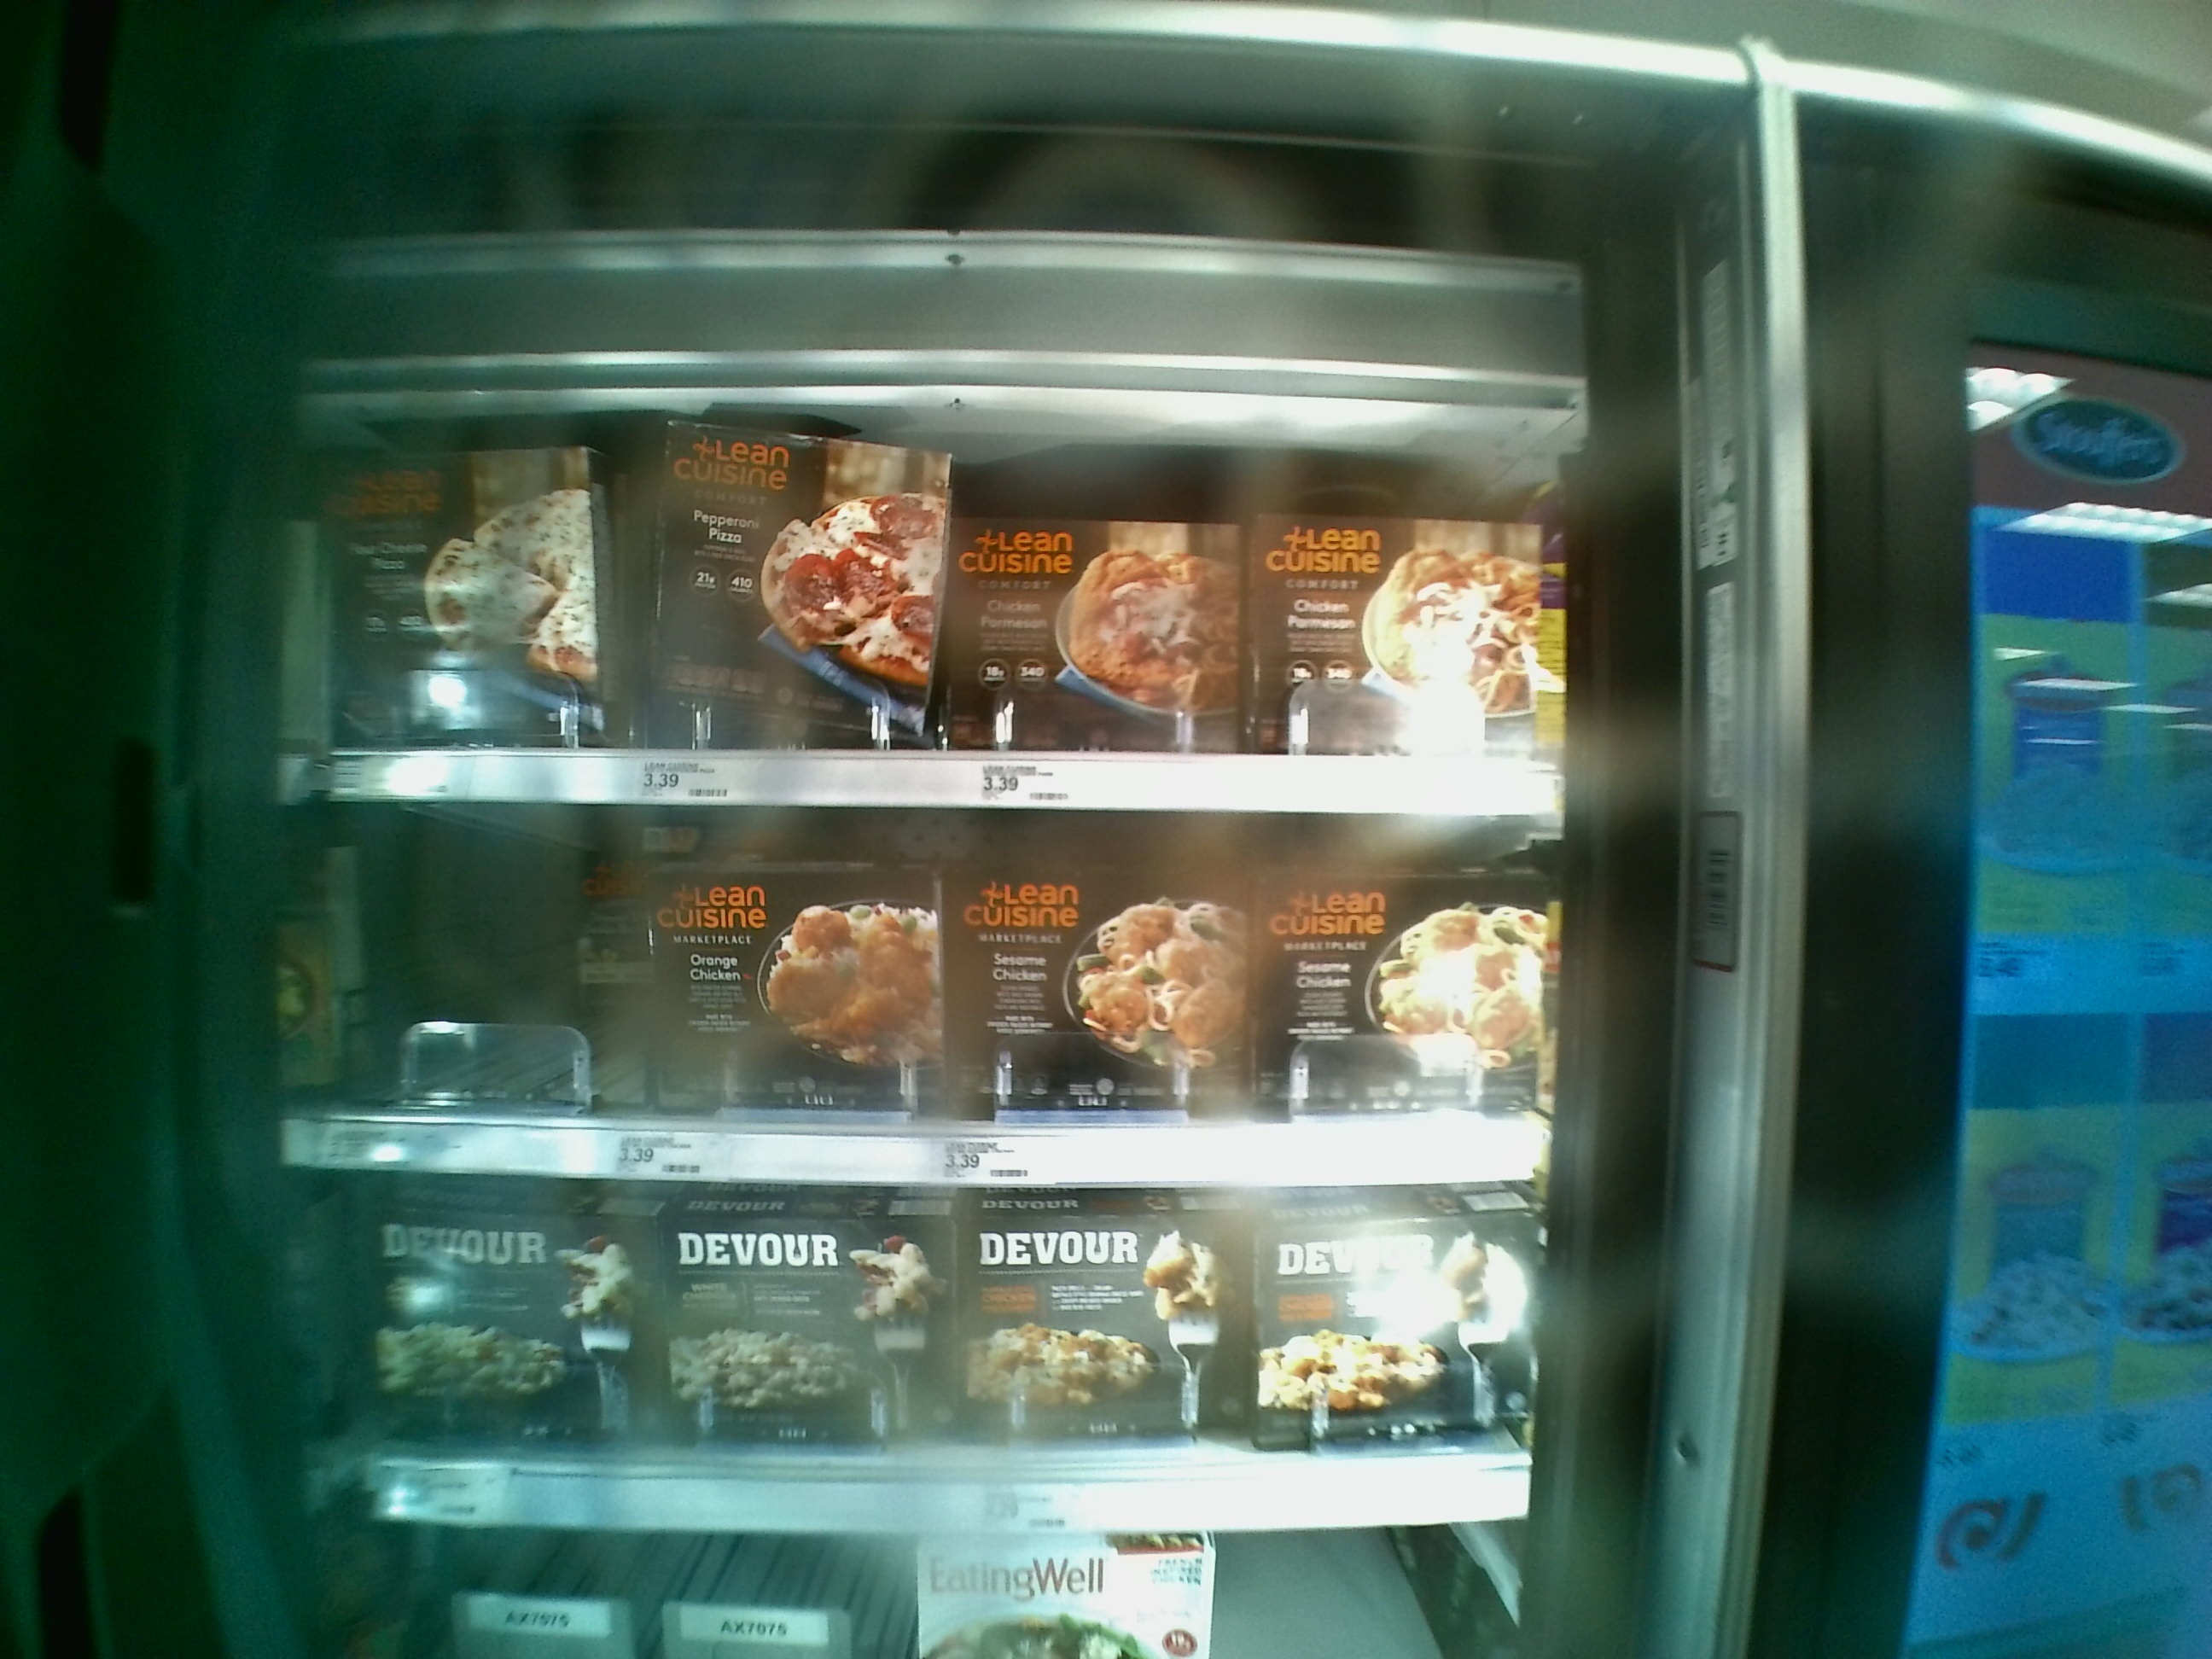shelf: (286, 375, 1559, 814), (280, 793, 1545, 1185), (286, 1161, 1554, 1539)
